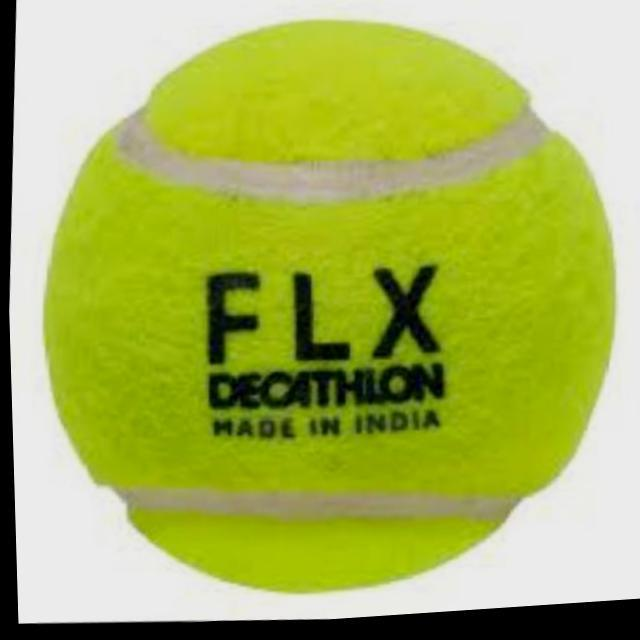-: (19, 0, 634, 633)
